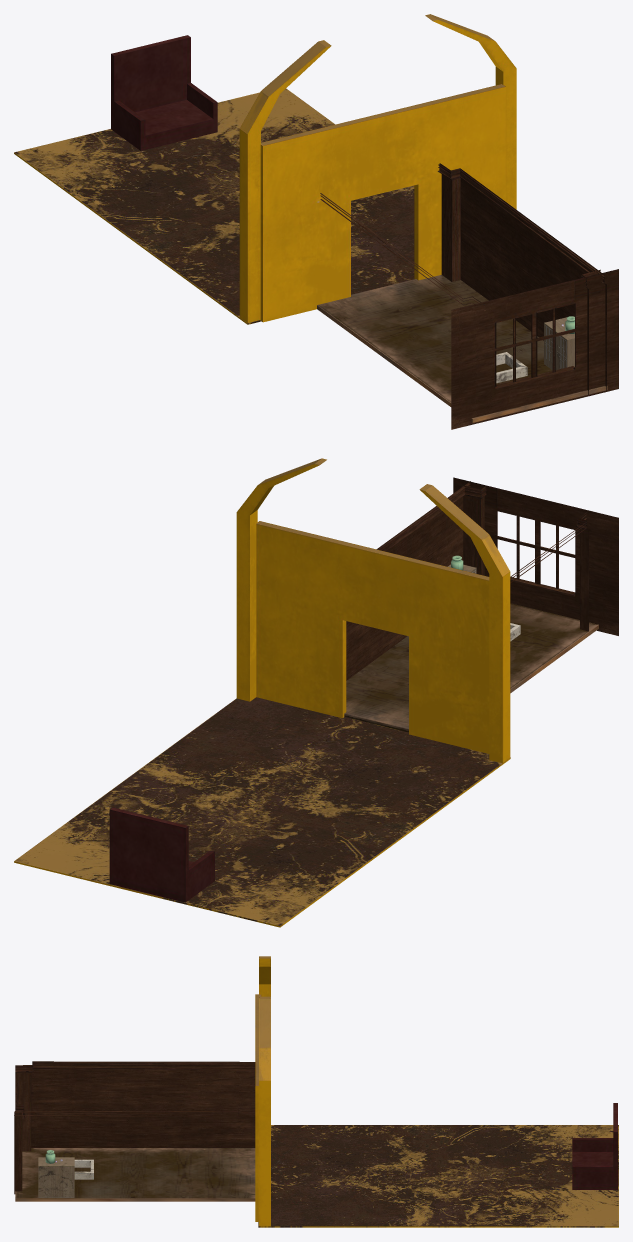
File: total.obj
The picture shows the model from 3 angles, top to bottom: view 1: azimuth 30°, elevation 25°; view 2: azimuth 150°, elevation 25°; view 3: azimuth 270°, elevation 25°; orthographic projection. The views are drawn at different scales.
Parts seen in each view (by area): view 1: house:polySurface3; view 2: house:polySurface3; view 3: house:polySurface3.
Boxes of the visible parts, bbox=[...] form: house:polySurface3: bbox=[14, 14, 618, 429]; house:polySurface3: bbox=[14, 458, 618, 927]; house:polySurface3: bbox=[14, 956, 618, 1227].
Bounding box in the file's own units: 20 × 18.42 × 50.34.
1 material, 1 textured.
